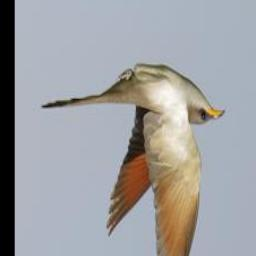Cuckoo: (41, 67, 224, 256)
